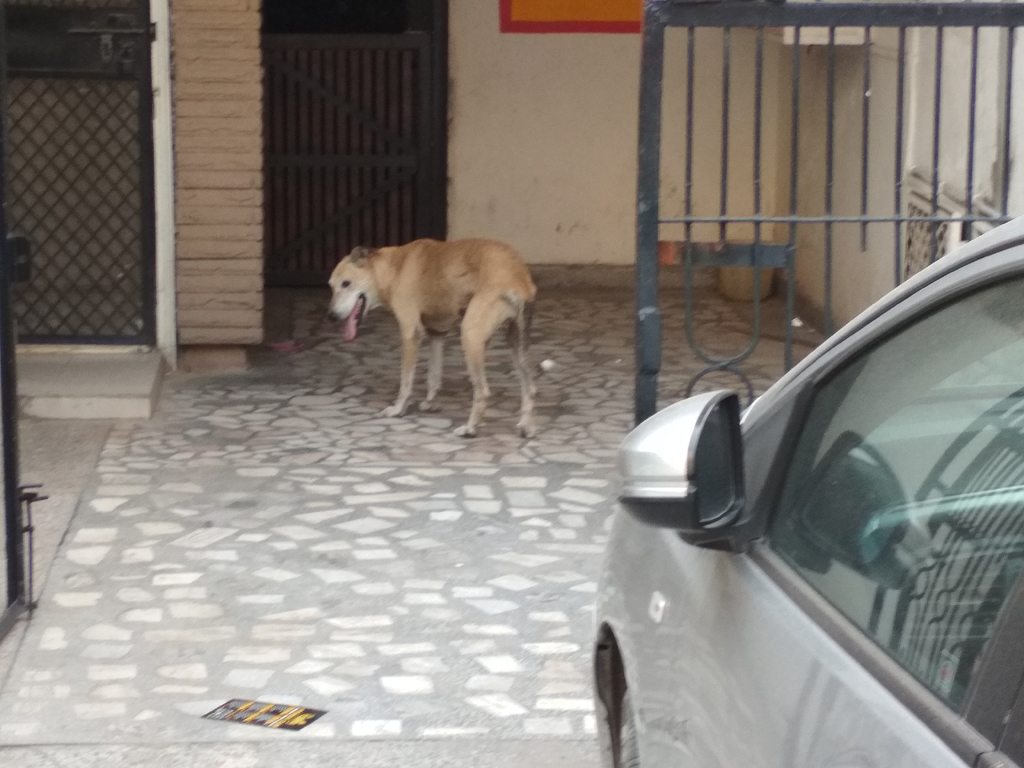dog: (328, 238, 536, 439)
